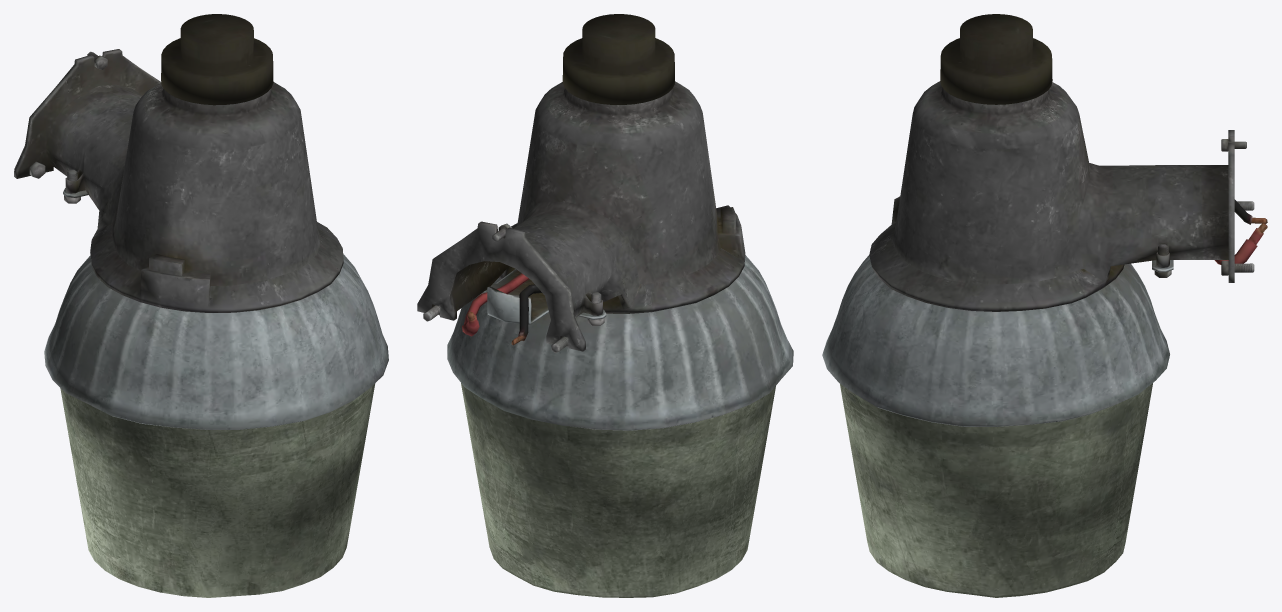
Rendered from security_light.glb.
The picture shows the model from 3 angles, left to right: view 1: azimuth 30°, elevation 25°; view 2: azimuth 150°, elevation 25°; view 3: azimuth 270°, elevation 25°; orthographic projection.
Visible parts, largest first — view 1: security_light, security_light_glass; view 2: security_light, security_light_glass; view 3: security_light, security_light_glass.
Boxes of the visible parts, left/top/right/bottom form: security_light: left=14, top=14, right=388, bottom=429; security_light_glass: left=60, top=383, right=375, bottom=597; security_light: left=417, top=14, right=793, bottom=430; security_light_glass: left=461, top=383, right=775, bottom=597; security_light: left=822, top=14, right=1267, bottom=426; security_light_glass: left=840, top=383, right=1152, bottom=597.
Size of the model in its own units: 0.3232 by 0.531 by 0.4172.
2 materials, 2 textured.
